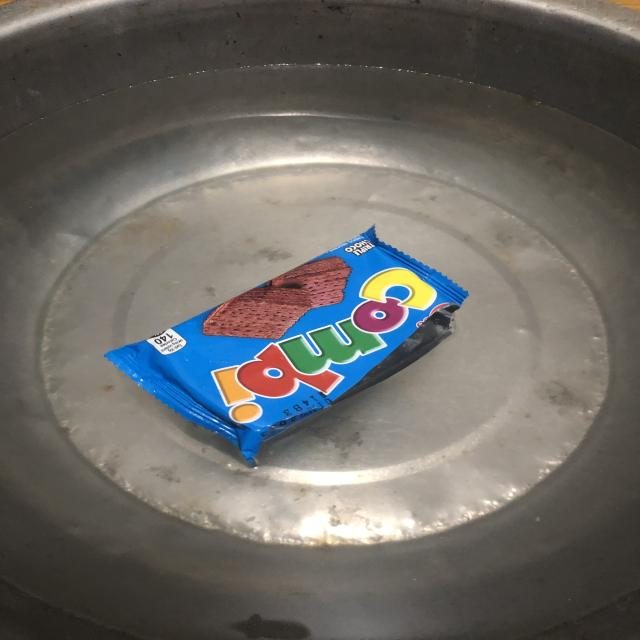Plastic Wrapper: (89, 206, 497, 486)
